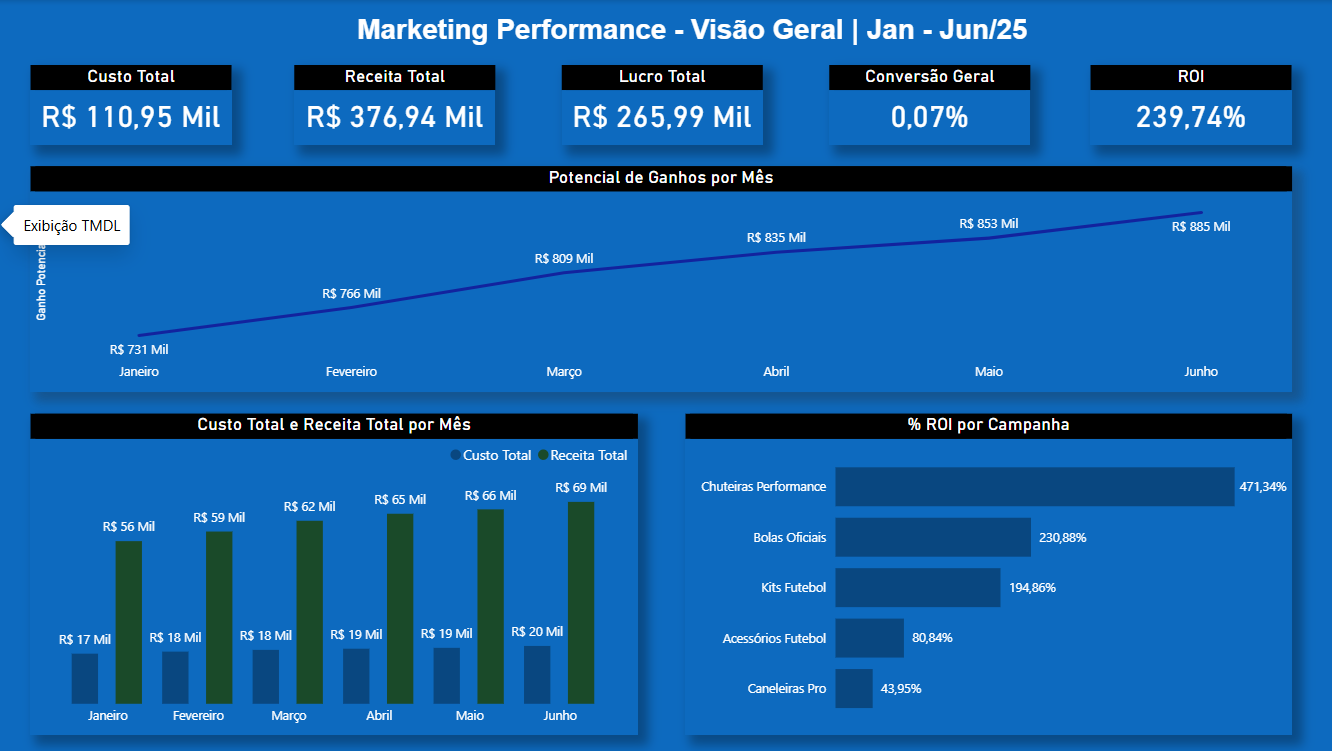

What the dashboard file says about the page in this screenshot:
{"tool":"powerbi","page":{"name":"Visão Geral","canvas":[1280,720],"ordinal":0},"visuals":[{"type":"textbox","box":[333.3,8.3,672.6,53.6],"z":0},{"type":"card","title":"Custo Total","fields":{"Values":["Medidas.Custo Total"]},"box":[31.2,62.3,193,76.7],"z":1000},{"type":"card","title":"Receita Total","fields":{"Values":["Medidas.Receita Total"]},"box":[284,62.3,193,76.7],"z":2000},{"type":"card","title":"ROI","fields":{"Values":["Medidas.ROI"]},"box":[1047.5,62.3,193,76.7],"z":3000},{"type":"card","title":"Conversão Geral","fields":{"Values":["Medidas.Conversão Geral"]},"box":[797,62.3,193,76.7],"z":4000},{"type":"clusteredColumnChart","title":"Custo Total e Receita Total por Mês","fields":{"Category":["campaigns.month"],"Y":["Medidas.Custo Total","Medidas.Receita Total"]},"box":[31.2,396.7,582.5,308],"z":5000},{"type":"barChart","title":"% ROI por Campanha","fields":{"Category":["campaigns.campaign_name"],"Y":["Medidas.ROI"]},"box":[659.2,396.7,581.3,308],"z":6000},{"type":"lineChart","title":"Potencial de Ganhos por Mês","fields":{"Category":["campaigns.month"],"Y":["Medidas.Ganho Potencial"]},"box":[31.2,159.4,1209.3,215.7],"z":7000},{"type":"card","title":"Lucro Total","fields":{"Values":["Medidas.Lucro Total"]},"box":[540.5,62.3,193,76.7],"z":8000}]}

Visuals, with their boxes in screenshot pixels (x1, y1, x2, y2), scaled from the page's 1280x720 canvas onto the 1332x751 screenshot:
textbox: left=347, top=9, right=1047, bottom=65
"Custo Total" card: left=32, top=65, right=233, bottom=145
"Receita Total" card: left=296, top=65, right=496, bottom=145
"ROI" card: left=1090, top=65, right=1291, bottom=145
"Conversão Geral" card: left=829, top=65, right=1030, bottom=145
"Custo Total e Receita Total por Mês" clusteredColumnChart: left=32, top=414, right=639, bottom=735
"% ROI por Campanha" barChart: left=686, top=414, right=1291, bottom=735
"Potencial de Ganhos por Mês" lineChart: left=32, top=166, right=1291, bottom=391
"Lucro Total" card: left=562, top=65, right=763, bottom=145
